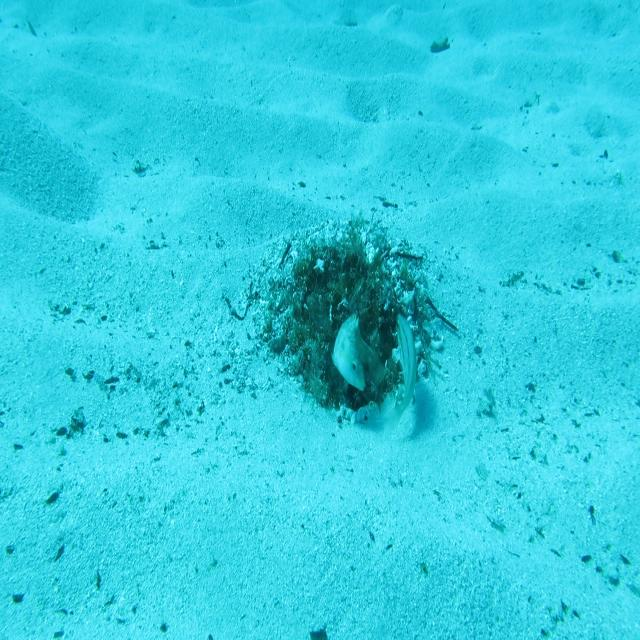DAN_CIRC: (329, 310, 388, 395)
core_nest: (324, 256, 372, 312)
female: (387, 311, 419, 432)
nest: (238, 203, 458, 445)
vegetation: (428, 34, 451, 56)
